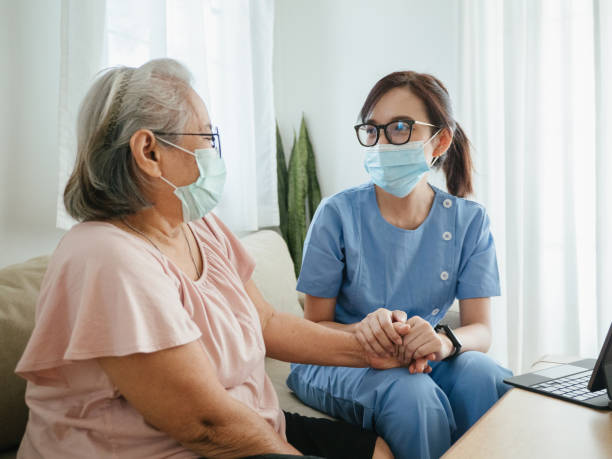with mask: (70, 59, 231, 234), (354, 83, 445, 201)
